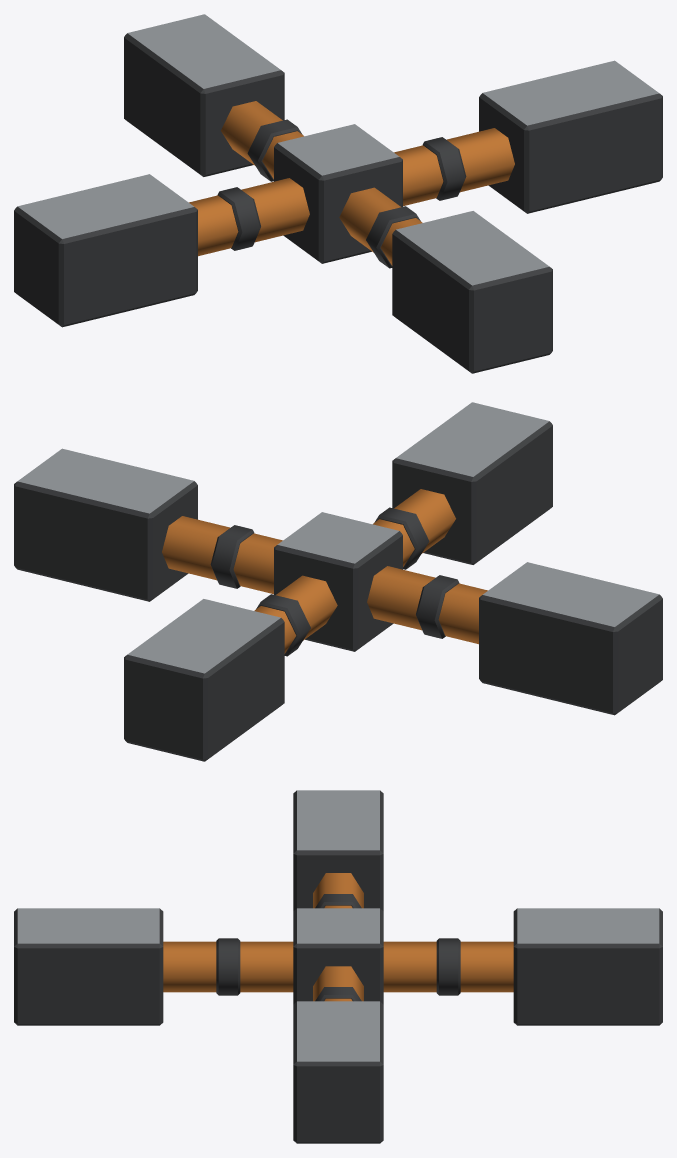
Rendered from R4C_ROD_PLUS_LOD1.fbx.
3 views of the same model, one above another, from view 1: azimuth 30°, elevation 25°; view 2: azimuth 150°, elevation 25°; view 3: azimuth 270°, elevation 25° (orthographic). The views are drawn at different scales.
Visible parts, largest first — view 1: R4C_ROD_PLUS_LOD1; view 2: R4C_ROD_PLUS_LOD1; view 3: R4C_ROD_PLUS_LOD1.
Part boxes in pixels (bbox=[...]): R4C_ROD_PLUS_LOD1: bbox=[14, 14, 662, 373]; R4C_ROD_PLUS_LOD1: bbox=[14, 402, 662, 761]; R4C_ROD_PLUS_LOD1: bbox=[14, 790, 662, 1143].
Bounding box in the file's own units: 1.62 × 0.226 × 1.62.
